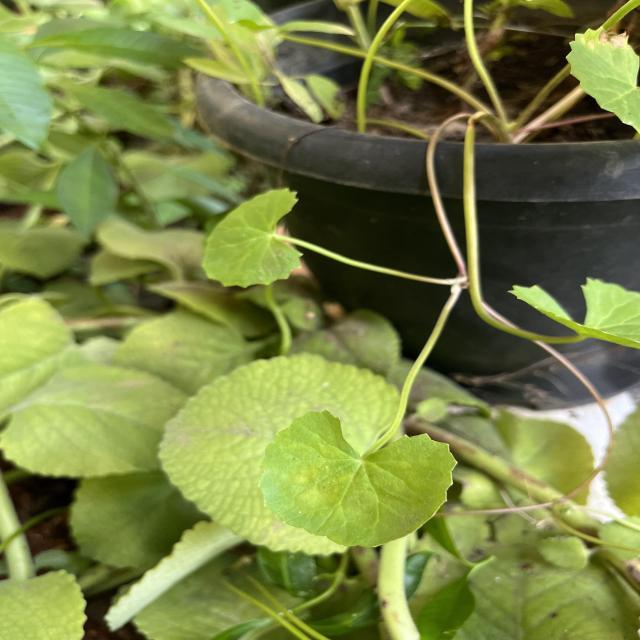Centella asiatica: (254, 405, 462, 550)
